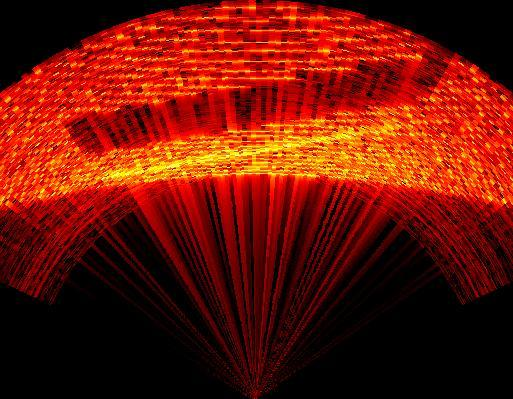pipe: (65, 52, 458, 186)
